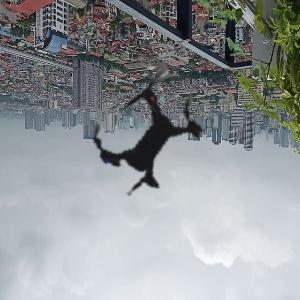drone: (46, 32, 248, 234)
